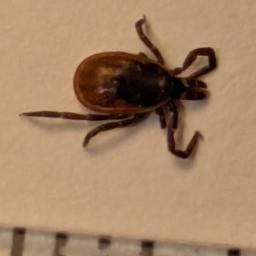Ixodes scapularis: (17, 13, 218, 159)
